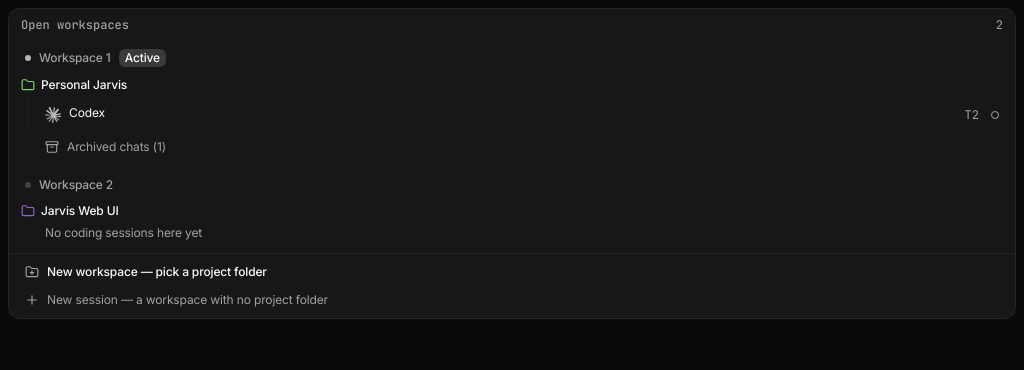
the sidebar's chat face › restores an archived chat back into the list
The image size is (1024, 370).
Click the button with test id "workspace-chats-archived-toggle-w1" at (117, 146), box [13,133,1011,161]
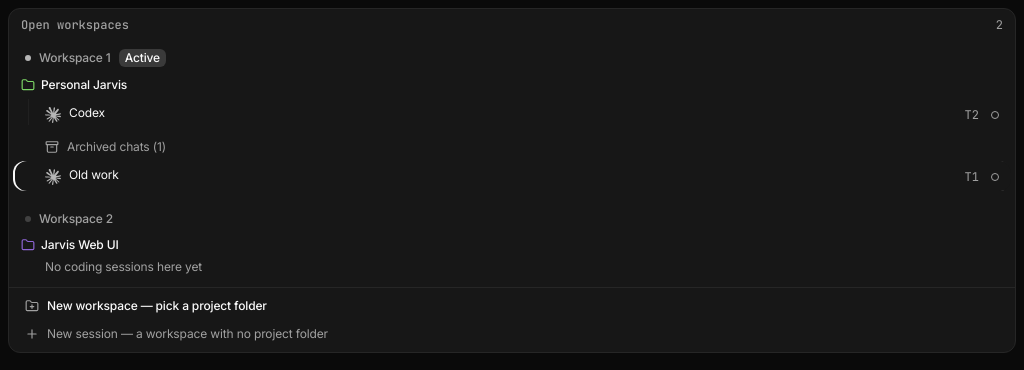
Right-click the button with test id "workspace-session-row" at (94, 174), box [13,161,1011,191]
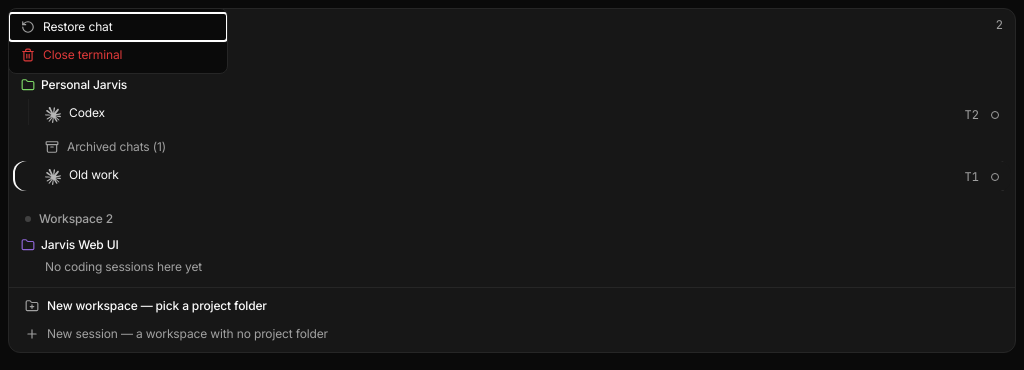
Click the menu item with test id "workspace-session-archive" at (118, 27), box [9,13,227,41]
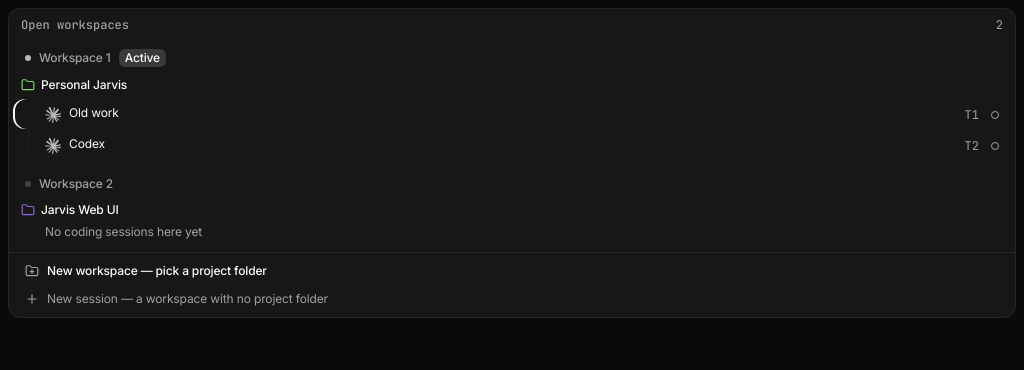
Now the element with test id "workspace-chats-archived" is gone
